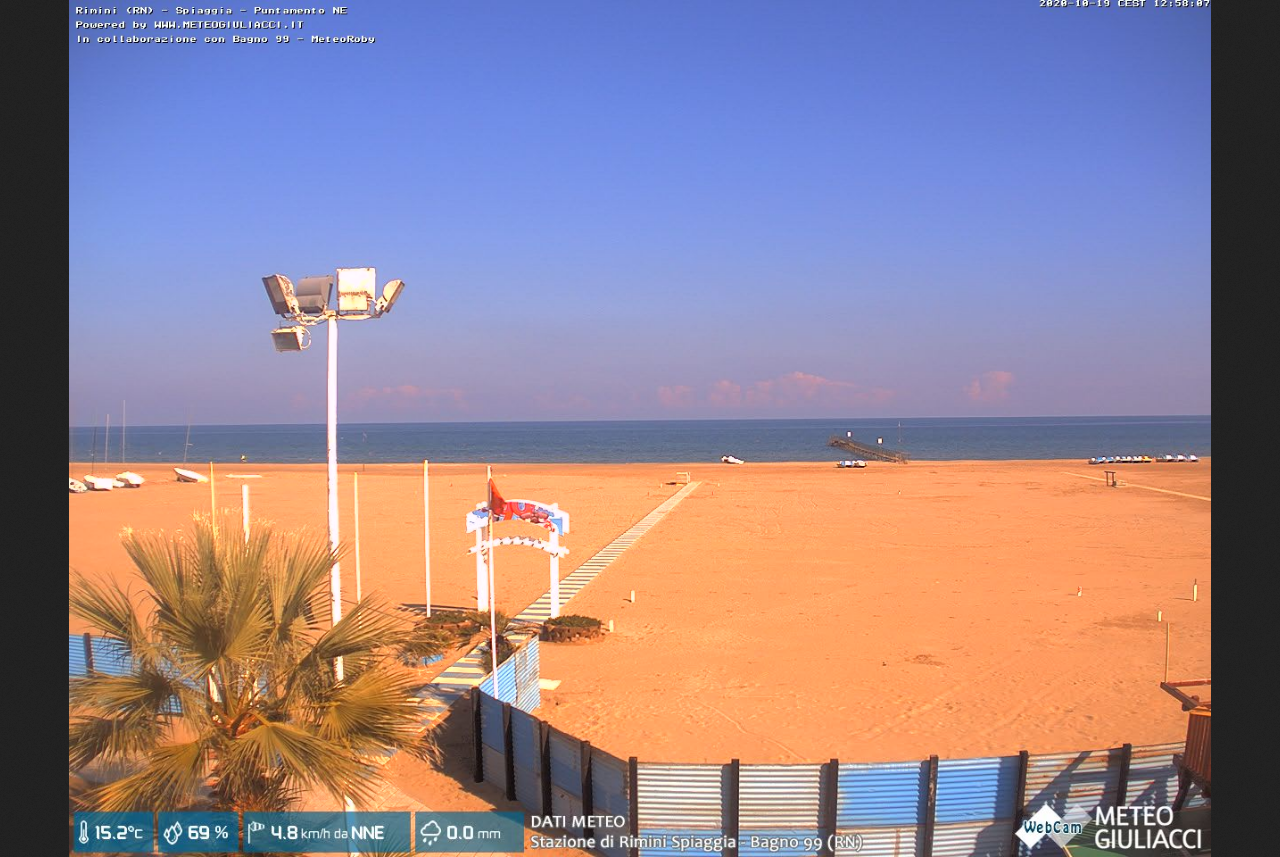maybe: (482, 473, 511, 523)
